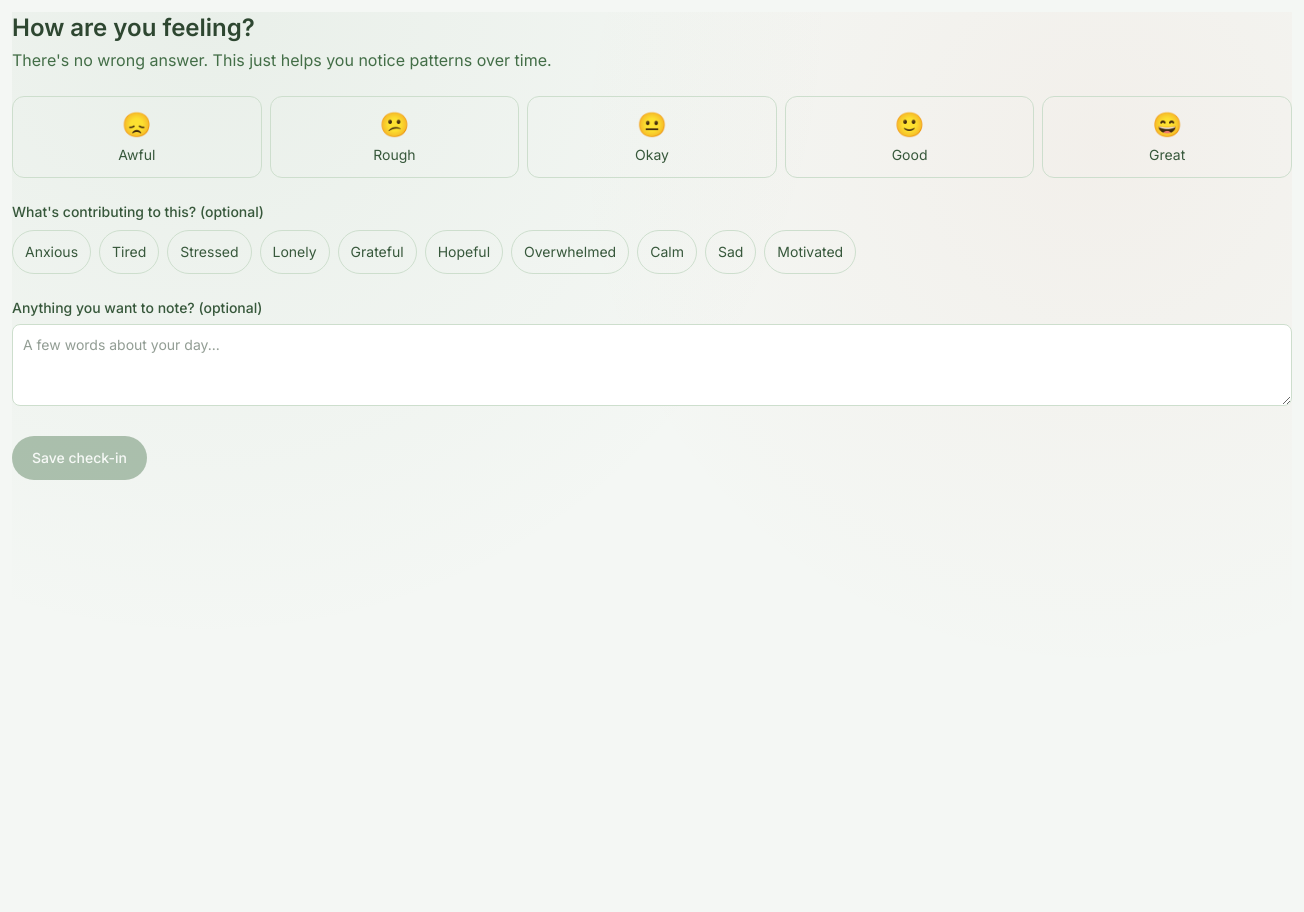
Test case: CheckIn page › recent check-ins › appears and updates live
Expected: the text "recent check-ins" is not shown
Click the radio button labelled "🙂 Good". click: (910, 137)
box: 785,96 -> 1034,178
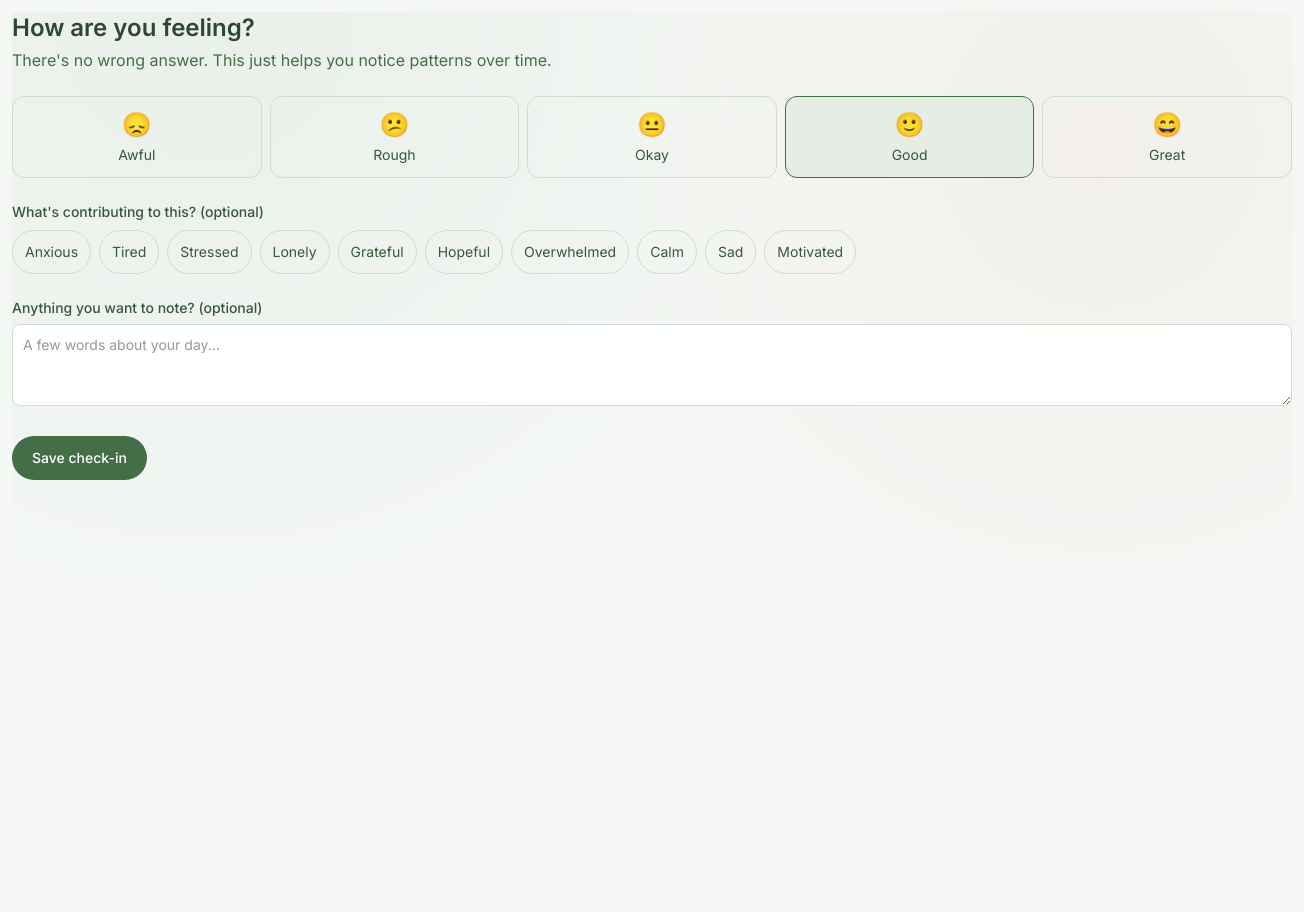
Click the button "Save check-in". click: (79, 458)
box: 12,436 -> 147,480
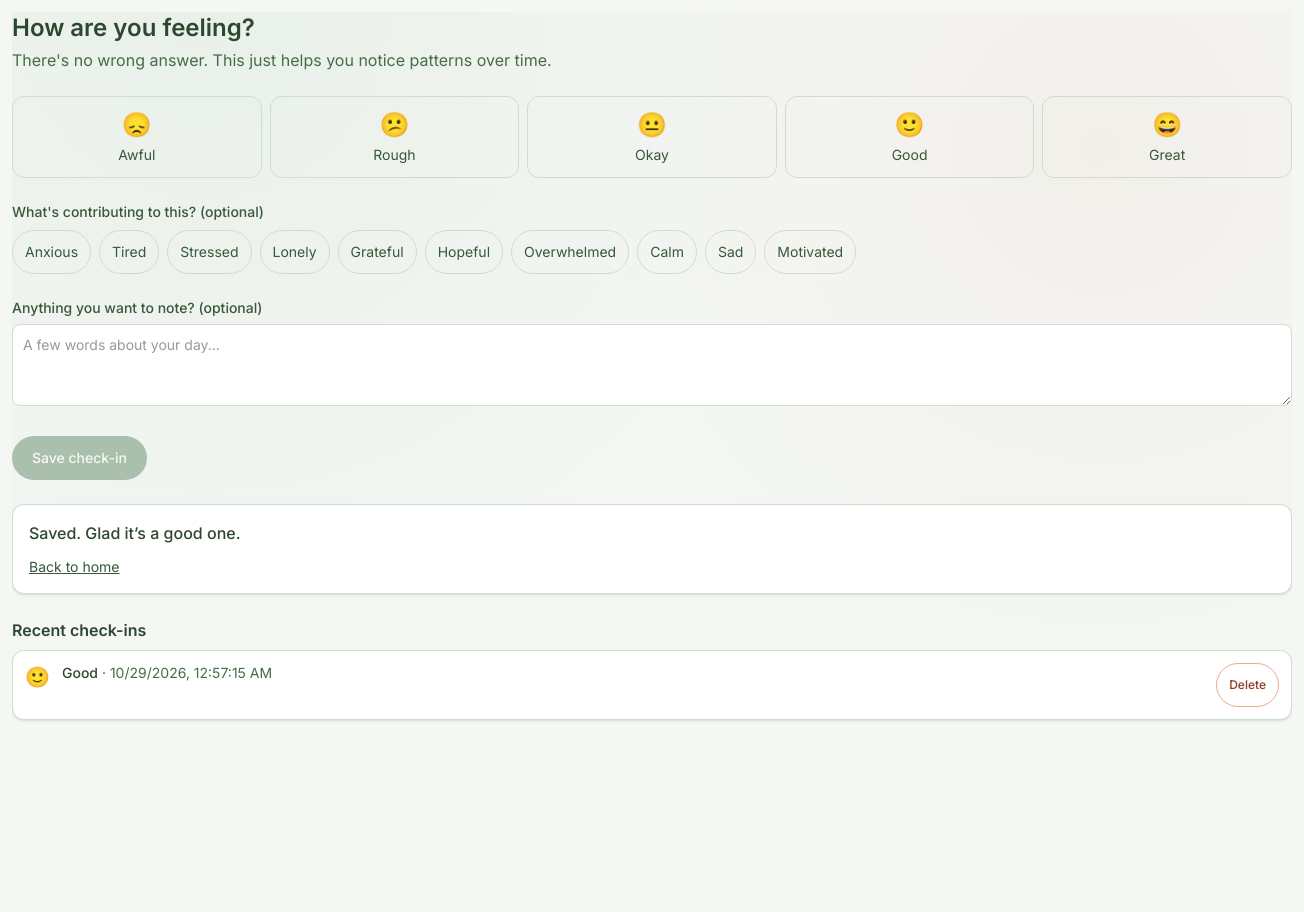
Expected: the heading "Recent check-ins" is shown, 12,620 -> 146,640
